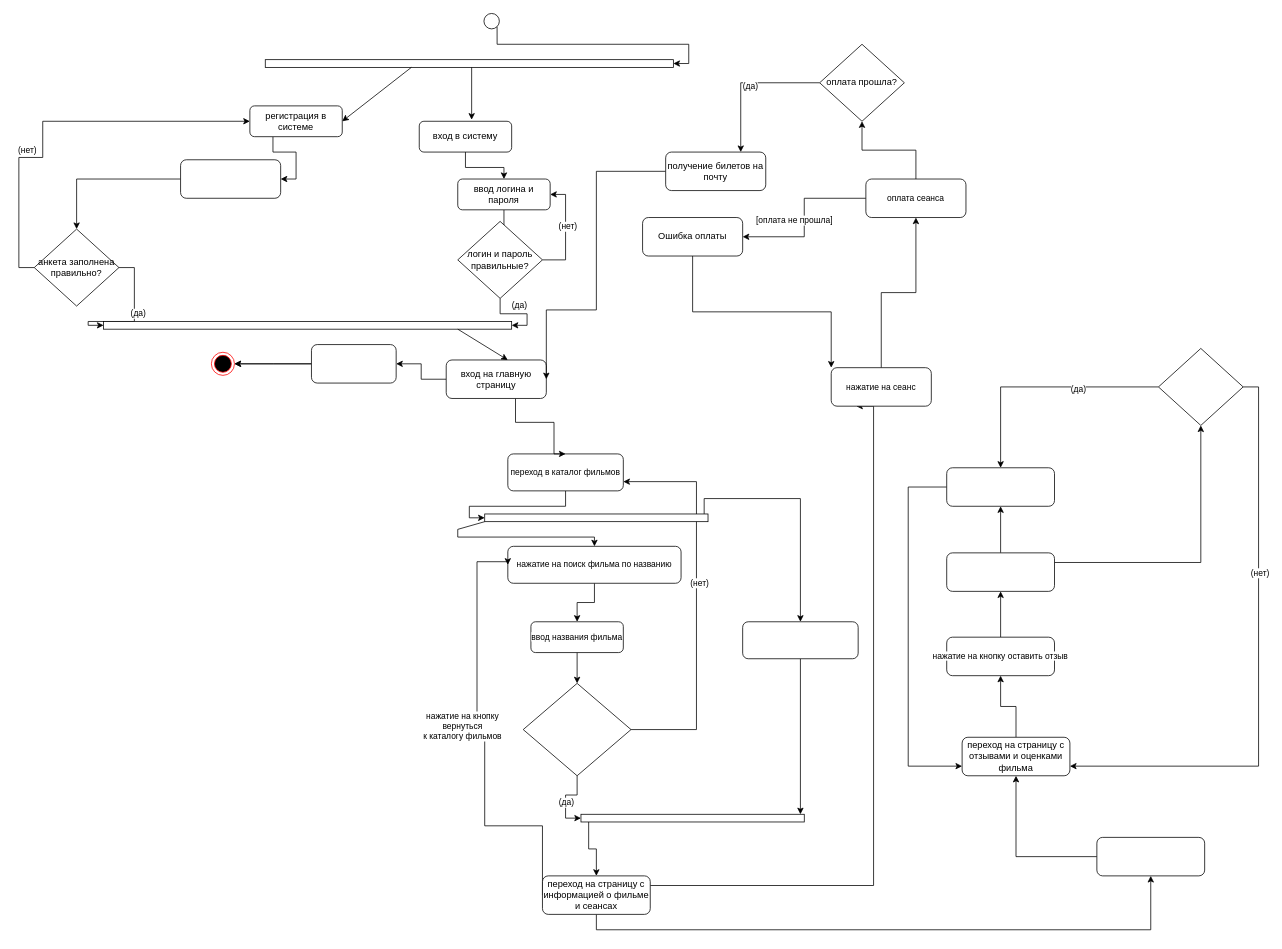
Image size: 1282x949. Some labels were removed from this diagram. Here are the shapes that lost their labels. From the top down, the centre of each, then its label:
(230,178): заполнение анкеты регистрации
(353,363): выход из системы
(1200,386): отзыв прошел фильтр по цензуре?
(1000,486): переход на страницу, где сообщается, что отзыв опубликован
(1000,571): нажатие на кнопку опубликовать
(800,640): нажатие на фильм из списка
(576,729): фильм есть в базе данных?
(1150,856): нажатие на кнопку отзывы
